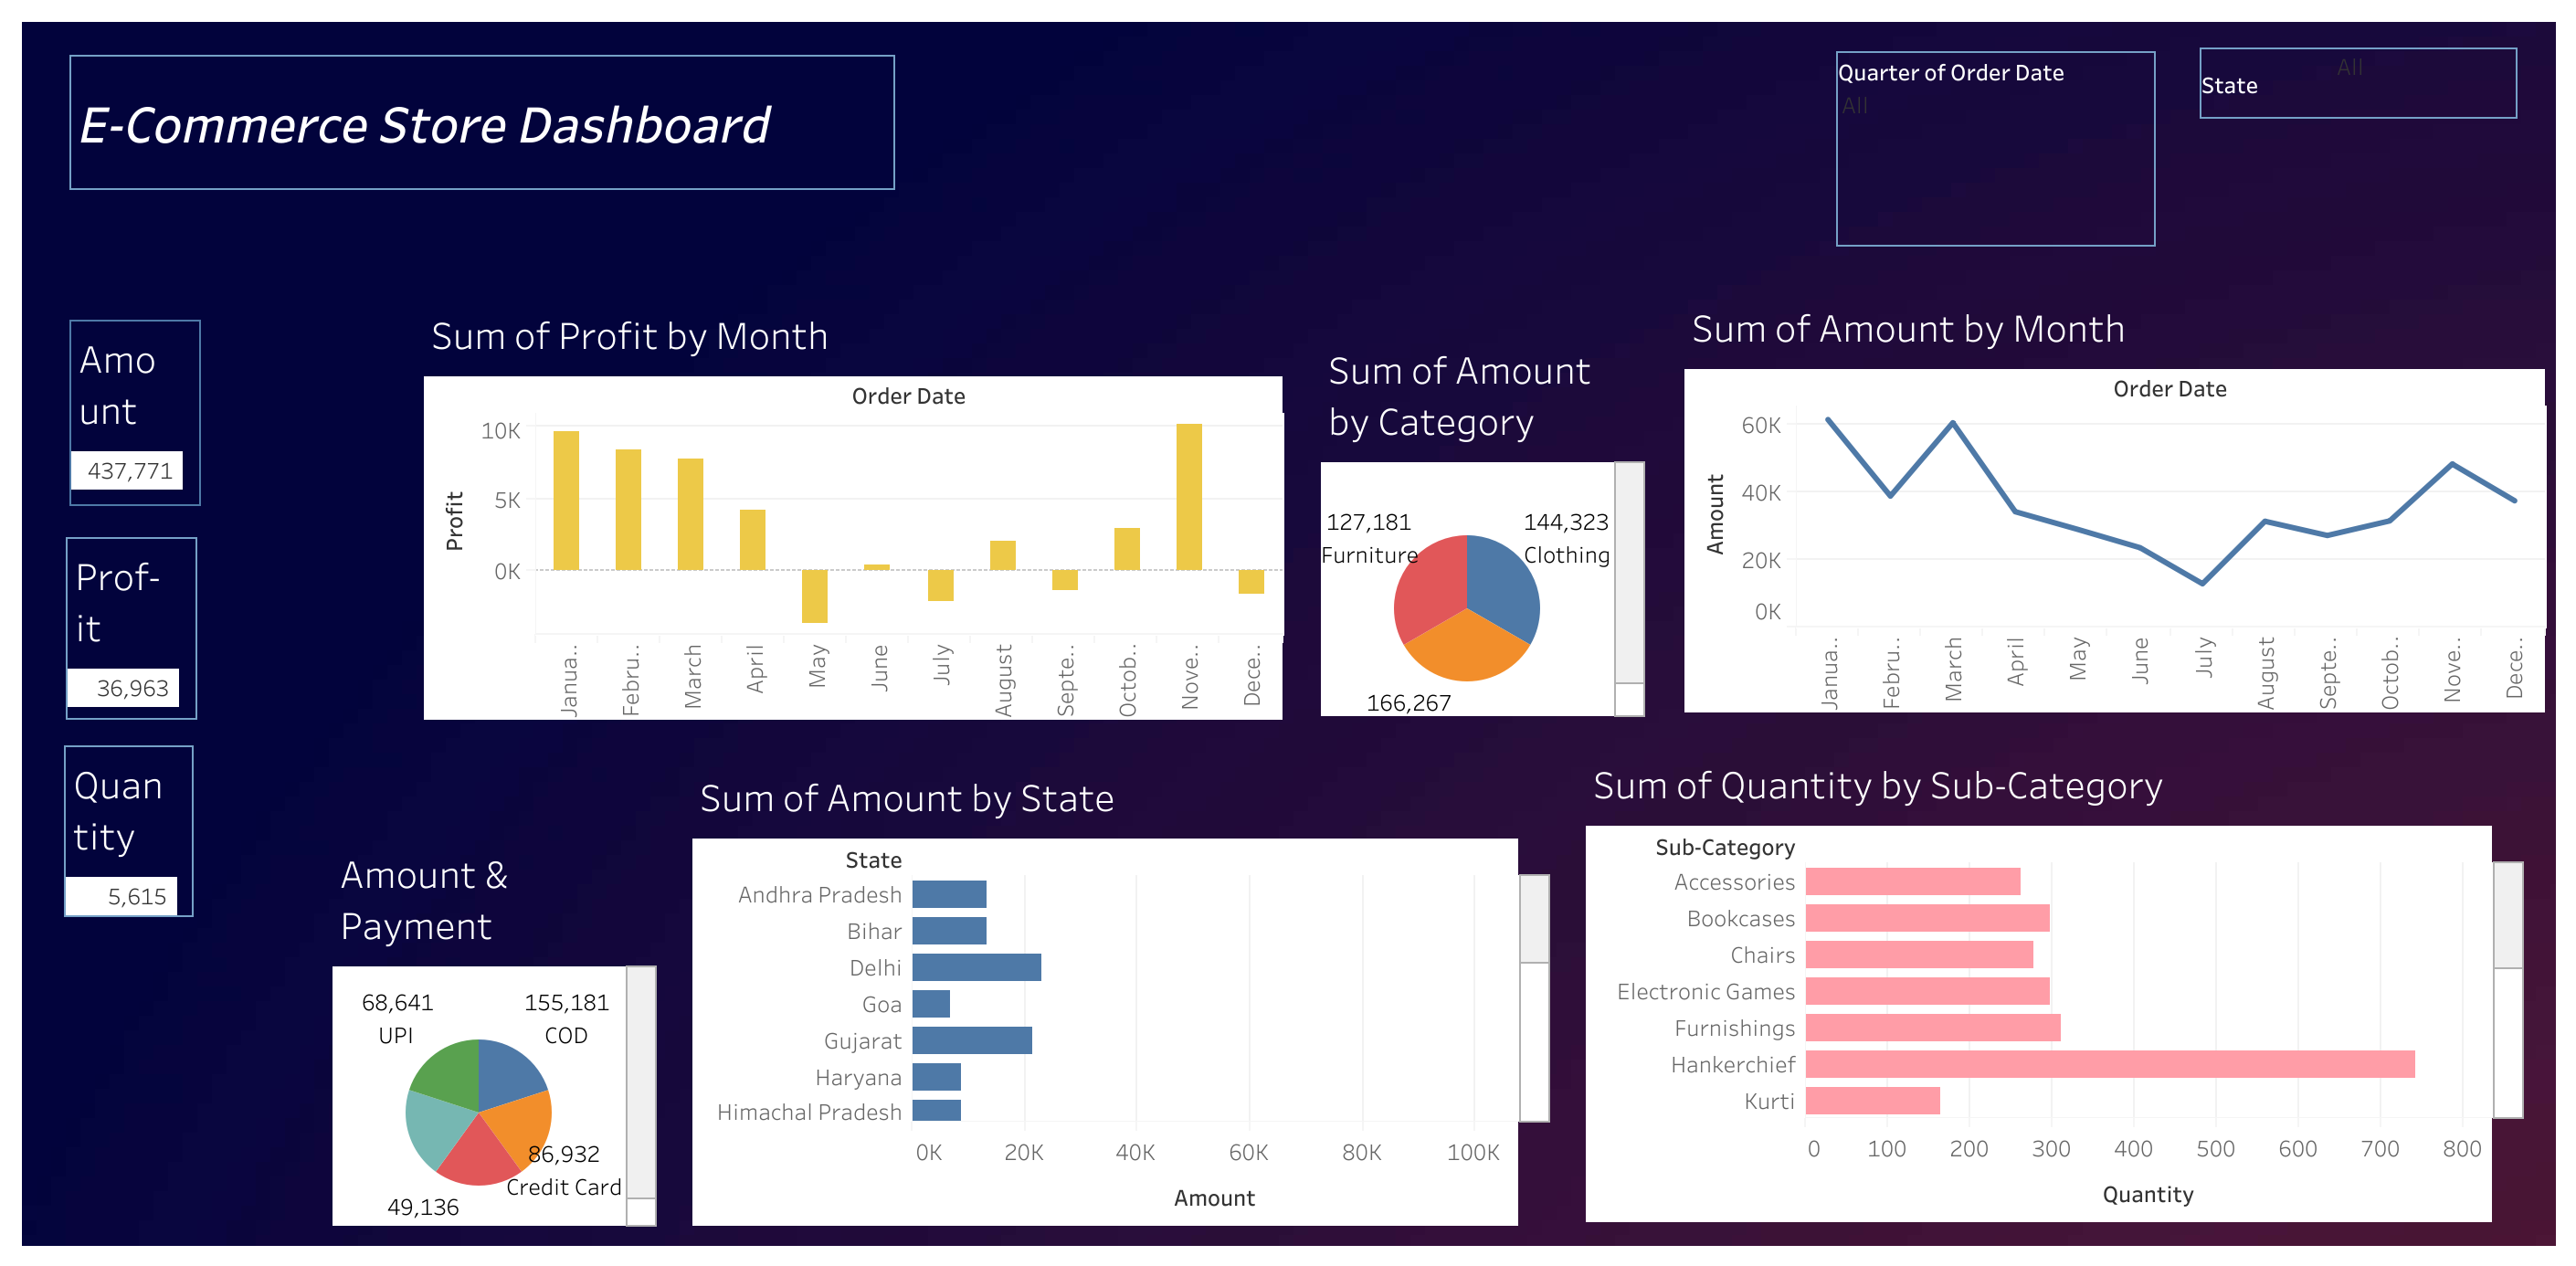

What the dashboard file says about the page in this screenshot:
{"tool":"tableau","page":{"name":"Dashboard 1","canvas":[1000,1000],"units":"permille","ordinal":0},"visuals":[{"type":"image","param":"Image/dark-gradient.jpg","box":[5.7,10.4,988.7,979.2]},{"type":"filter","title":"Sheet 1","param":"[federated.1eg7r0v0wch68r1cwewop0mffbi0].[none:State:nk]","box":[850.3,31.2,129.4,67.7]},{"type":"filter","title":"Sheet 1","param":"[federated.1eg7r0v0wch68r1cwewop0mffbi0].[qr:Order Date:ok]","box":[709.6,35.2,129.4,165.4]},{"type":"text","box":[26.7,43,320.4,106.8]},{"type":"worksheet","title":"Sheet 6","mark":"Automatic","rows":["Amount"],"cols":["Order Date"],"box":[653.7,229.2,333.3,333.3]},{"type":"worksheet","title":"Sheet 1","mark":"Bar","rows":["Profit"],"cols":["Order Date"],"box":[164.2,234.4,333.3,333.3]},{"type":"worksheet","title":"Sheet 7","mark":"Automatic","box":[26.7,252.6,51,147.1]},{"type":"worksheet","title":"Sheet 5","mark":"Pie","box":[512.1,261.7,130.3,303.4]},{"type":"worksheet","title":"Sheet 8","mark":"Automatic","box":[25.7,423,50.5,144.3]},{"type":"worksheet","title":"Sheet 9","mark":"Automatic","box":[24.9,588.2,50.5,134.4]},{"type":"worksheet","title":"Sheet 4","mark":"Automatic","rows":["Sub-Category"],"cols":["Quantity"],"box":[614.9,589.8,364.9,373.7]},{"type":"worksheet","title":"Sheet 3","mark":"Automatic","rows":["State"],"cols":["Amount"],"box":[268.6,599,333.3,367.2]},{"type":"worksheet","title":"Sheet 2","mark":"Pie","box":[128.6,660.2,131.9,307.3]}]}

Visuals, with their boxes on the dashboard's canvas, which has no fixed pixel size, in thousandths of its width and height (x1, y1, x2, y2). These are canvas units, not pixel positions in the 2576x1266 screenshot, which may show the page scaled, cropped or inside an application window:
image: (6,10,994,990)
"Sheet 1" filter: (850,31,980,99)
"Sheet 1" filter: (710,35,839,201)
text: (27,43,347,150)
"Sheet 6" worksheet: (654,229,987,562)
"Sheet 1" worksheet (Bar marks): (164,234,498,568)
"Sheet 7" worksheet: (27,253,78,400)
"Sheet 5" worksheet (Pie marks): (512,262,642,565)
"Sheet 8" worksheet: (26,423,76,567)
"Sheet 9" worksheet: (25,588,75,723)
"Sheet 4" worksheet: (615,590,980,964)
"Sheet 3" worksheet: (269,599,602,966)
"Sheet 2" worksheet (Pie marks): (129,660,260,968)
